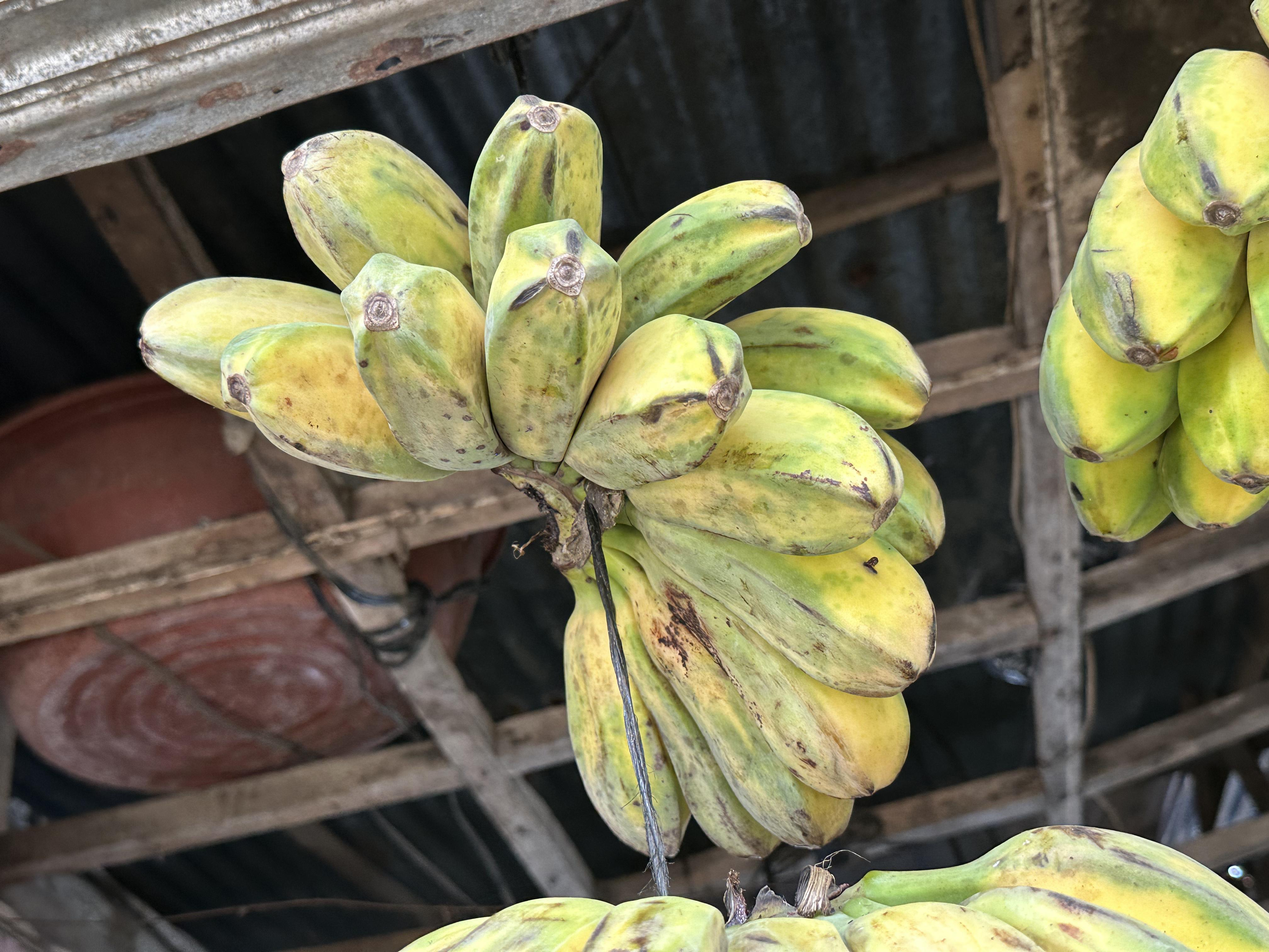underripe: (137, 93, 947, 859), (1037, 46, 1269, 541), (403, 826, 1269, 952)
